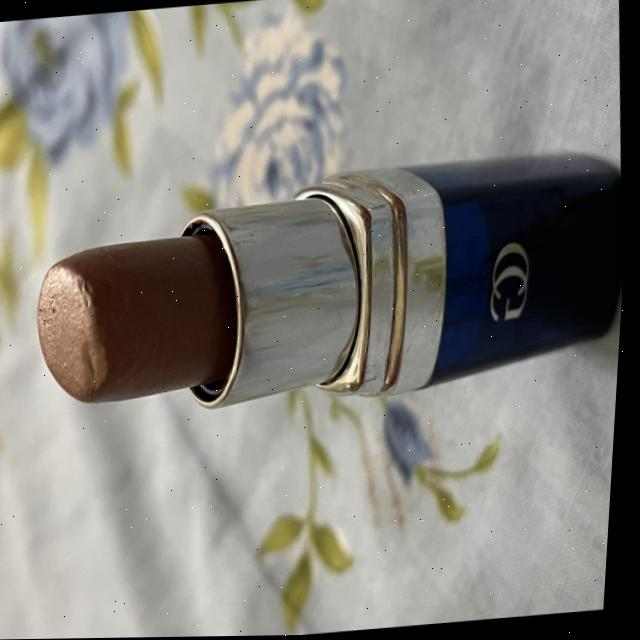lip stick: (7, 143, 633, 459)
